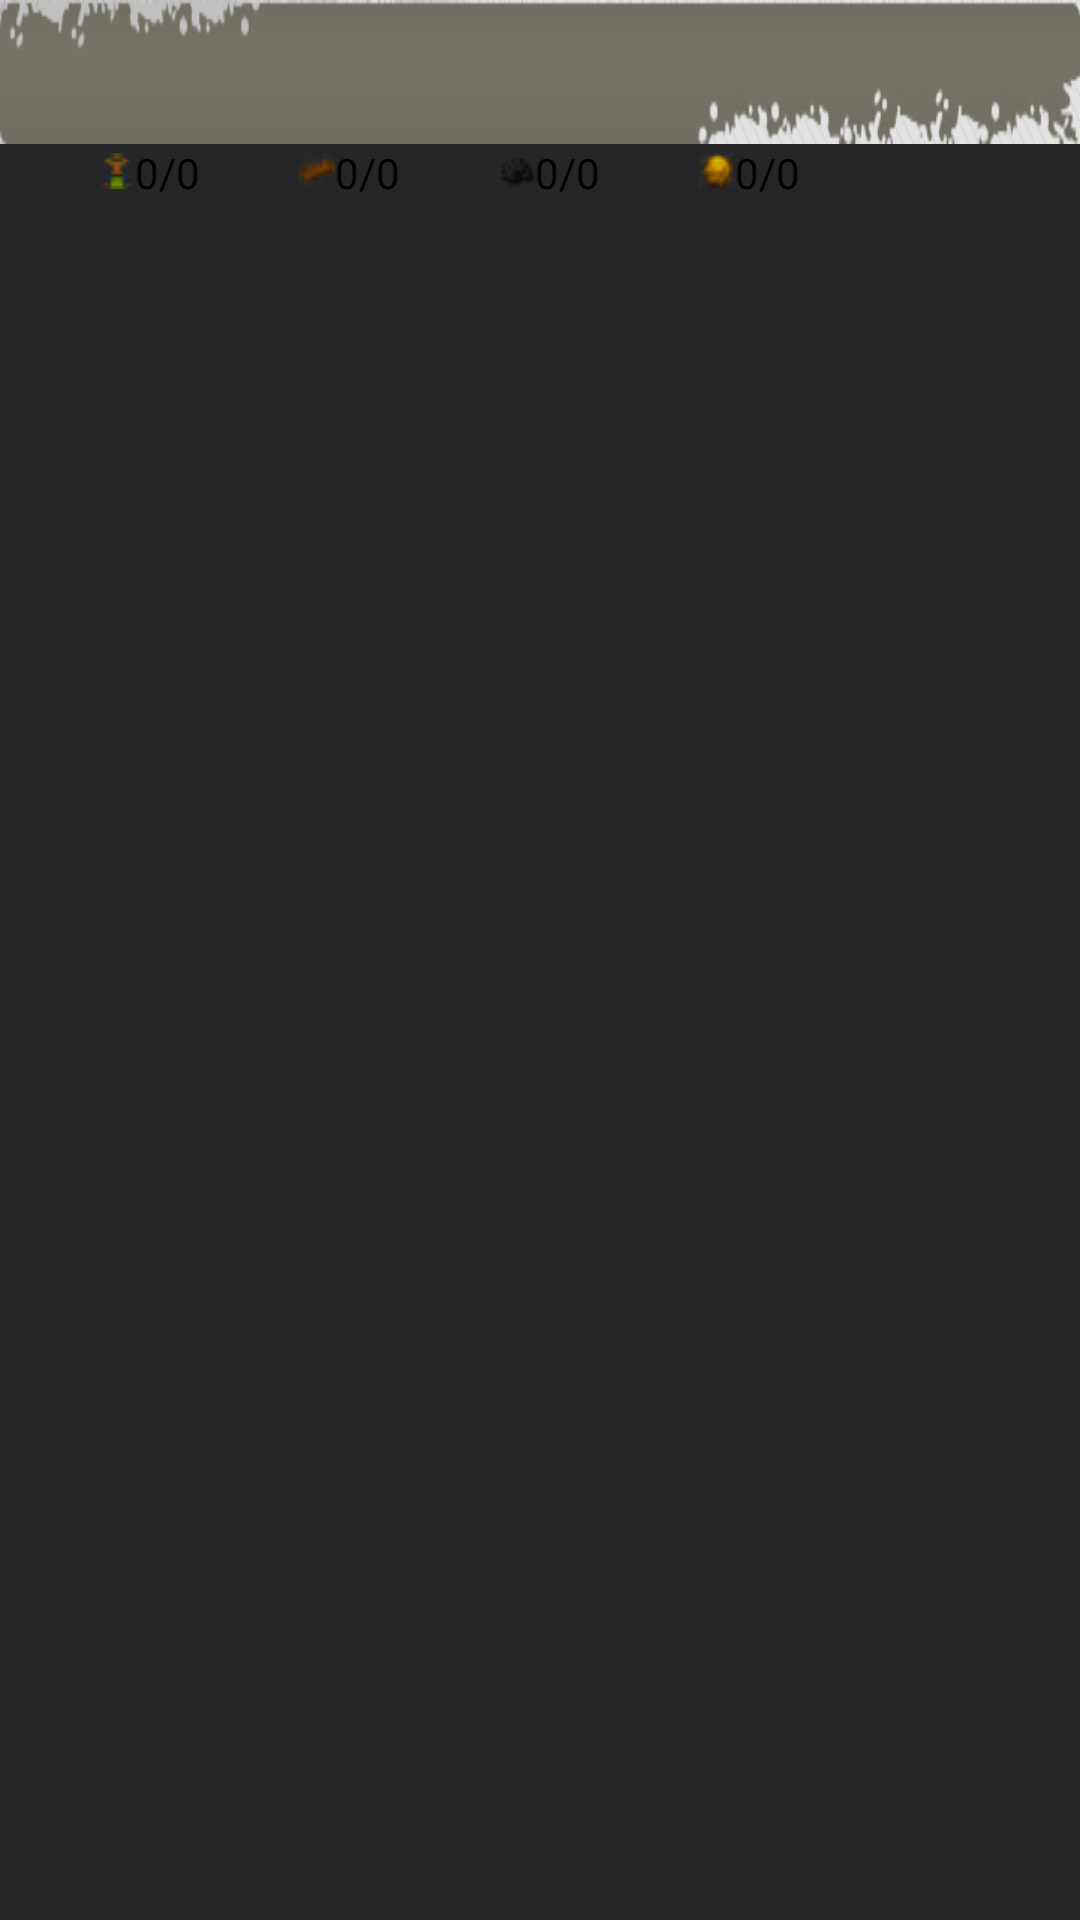

Where to tap for icons on this 1080px×1920px app screen, as (x,y):
res gold: (717,171)
res villager: (117,171)
res wood: (317,170)
